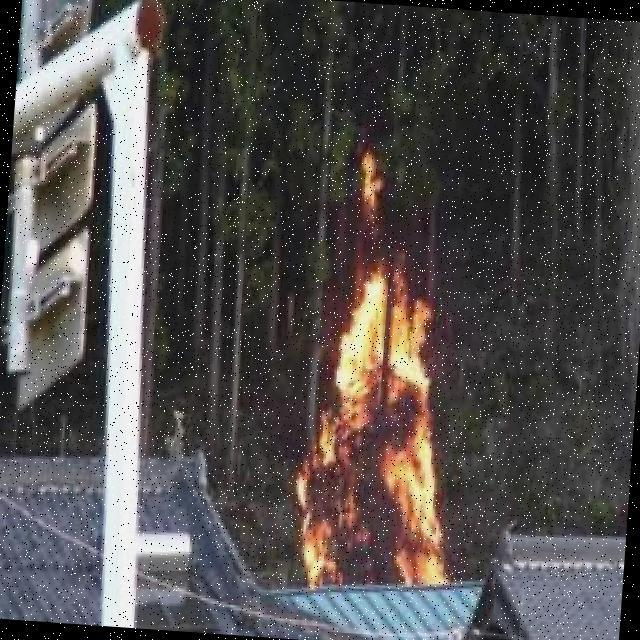Fire: (289, 246, 468, 592)
